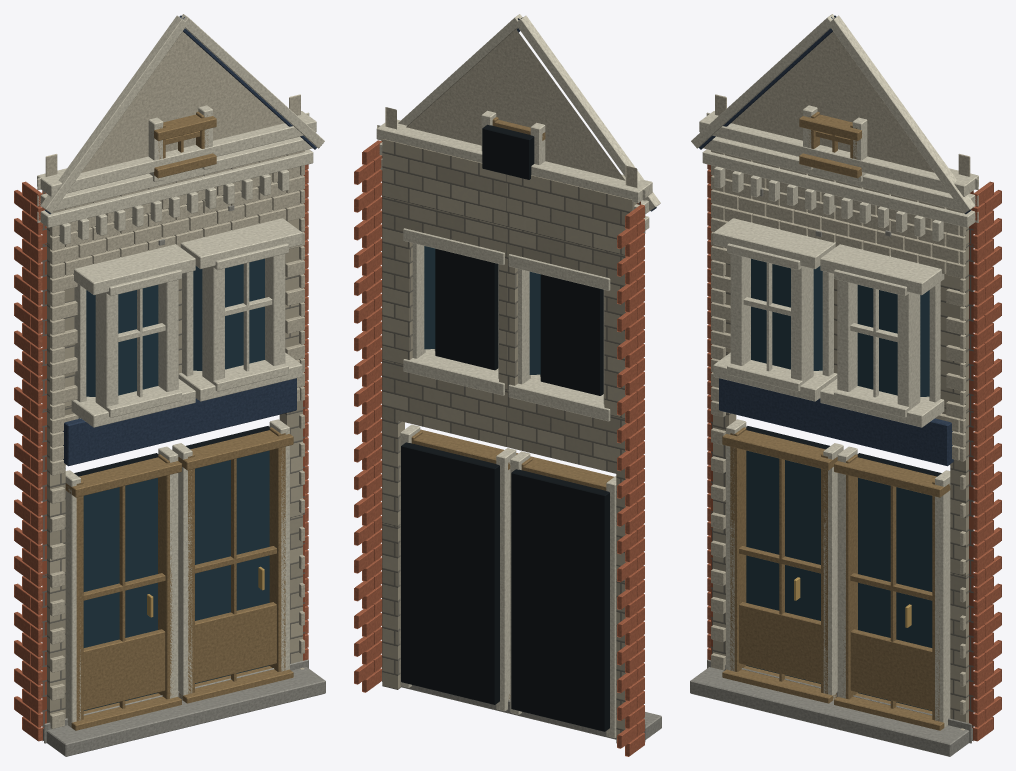
Rendered from BUSS7_lod0.glb.
3 renders of one model, left to right at view 1: azimuth 30°, elevation 25°; view 2: azimuth 150°, elevation 25°; view 3: azimuth 330°, elevation 25°, orthographic.
Visible parts, largest first — view 1: BUSS7_FRONT_LOD0; view 2: BUSS7_FRONT_LOD0; view 3: BUSS7_FRONT_LOD0.
Boxes of the visible parts, x1,y1,x2,y2 form: BUSS7_FRONT_LOD0: (14, 14, 325, 756); BUSS7_FRONT_LOD0: (354, 14, 661, 756); BUSS7_FRONT_LOD0: (690, 14, 1001, 756).
Size of the model in its own units: 3.53 by 8.45 by 1.11.
Materials: 16 (13 with a texture image).
